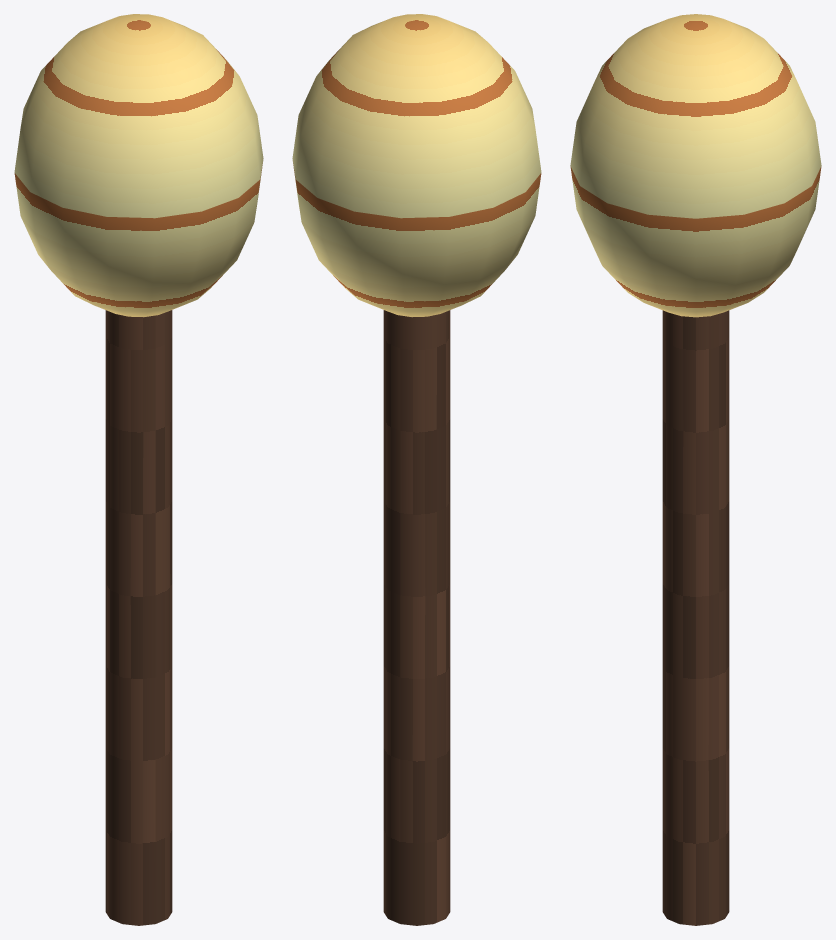
The model's file is ArrivalLantern.bdl.glb.
The picture shows the model from 3 angles, left to right: view 1: azimuth 30°, elevation 25°; view 2: azimuth 150°, elevation 25°; view 3: azimuth 270°, elevation 25°; orthographic projection.
Parts seen in each view (by area): view 1: Model; view 2: Model; view 3: Model.
Part boxes in pixels (x1=…): Model: x1=14, y1=14, x2=263, y2=925; Model: x1=292, y1=14, x2=541, y2=925; Model: x1=570, y1=14, x2=821, y2=925.
Bounding box in the file's own units: 0.9 × 3.51 × 0.9.
2 materials, 2 textured.
